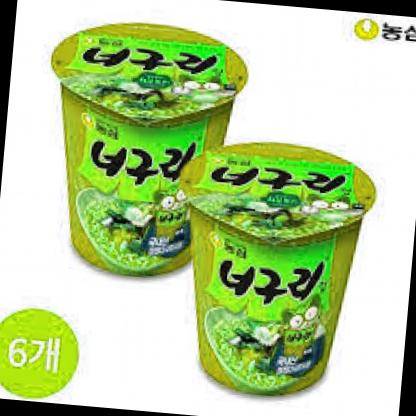Ramen: (33, 13, 231, 288), (177, 139, 365, 404)
